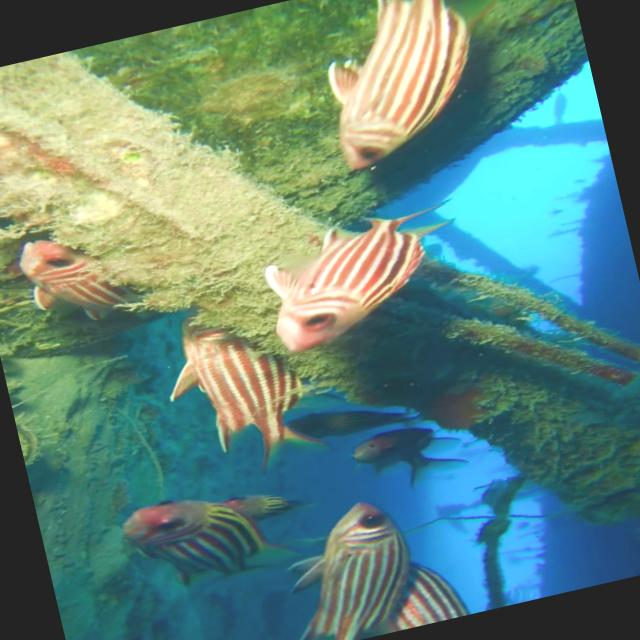Asker Baligi: (251, 192, 481, 358), (301, 0, 508, 173), (94, 476, 302, 604), (287, 490, 430, 640), (10, 218, 126, 334)
